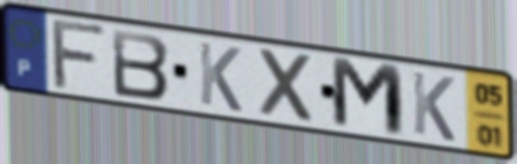B: (109, 27, 173, 103)
F: (50, 18, 111, 93)
K: (196, 38, 245, 115), (409, 68, 458, 145)
M: (328, 54, 409, 142)
X: (256, 45, 318, 127)
